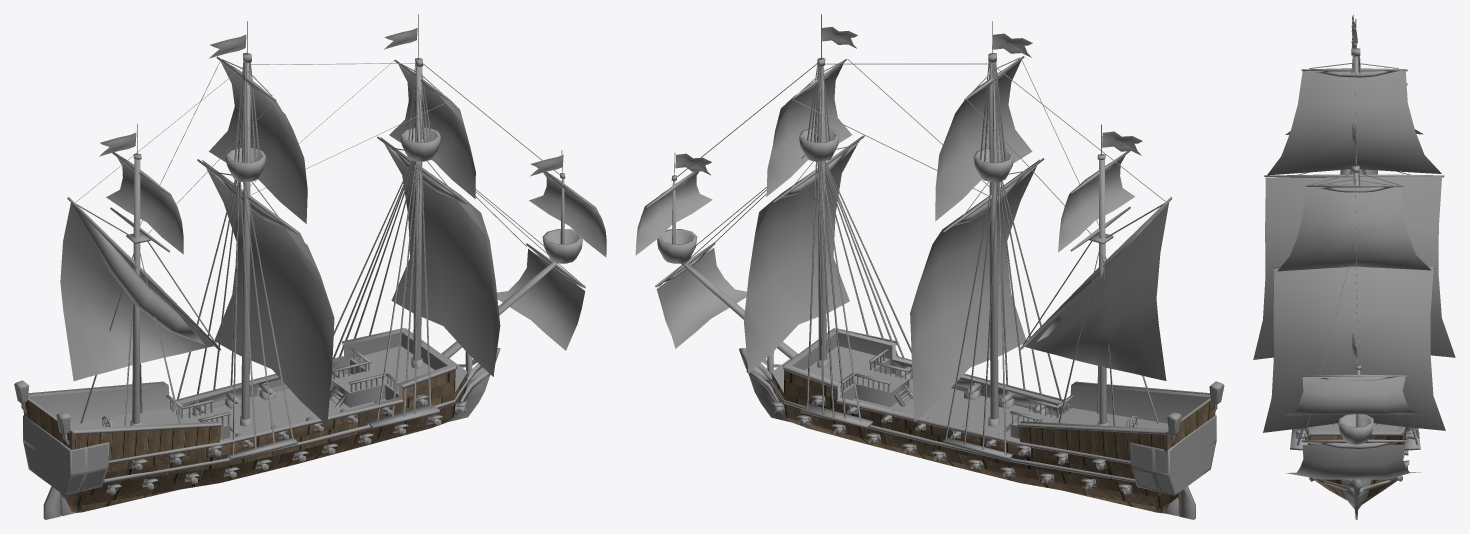
The model's file is War_ship.FBX.
3 renders of one model, left to right at view 1: azimuth 30°, elevation 25°; view 2: azimuth 150°, elevation 25°; view 3: azimuth 270°, elevation 25°, orthographic. The views are drawn at different scales.
Parts seen in each view (by area): view 1: sail6, rope, sail4, wood5, sail08, wood6, wood11, wood9, wood5_2, sail5, wood7, sail2 (+12 smaller); view 2: sail6, rope, sail4, sail08, wood5, wood6, wood9, wood11, wood5_2, wood7, sail5, sail2 (+11 smaller); view 3: sail4, sail5, sail6, sail3, sail1, sail2, wood5, rope, wood8, wood6, wood3, closedsail5 (+6 smaller).
Part boxes in pixels (x1=…): sail6: x1=202, y1=160, x2=334, y2=425; rope: x1=75, y1=59, x2=584, y2=454; sail4: x1=380, y1=137, x2=500, y2=376; wood5: x1=67, y1=14, x2=594, y2=426; sail08: x1=60, y1=203, x2=213, y2=381; wood6: x1=23, y1=370, x2=467, y2=512; wood11: x1=28, y1=331, x2=447, y2=446; wood9: x1=14, y1=328, x2=496, y2=495; wood5_2: x1=70, y1=346, x2=467, y2=438; sail5: x1=209, y1=62, x2=307, y2=223; wood7: x1=75, y1=380, x2=466, y2=496; sail2: x1=497, y1=249, x2=585, y2=350; sail6: x1=910, y1=159, x2=1039, y2=421; rope: x1=658, y1=57, x2=1165, y2=455; sail4: x1=743, y1=136, x2=861, y2=373; sail08: x1=1025, y1=203, x2=1168, y2=380; wood5: x1=646, y1=14, x2=1172, y2=426; wood6: x1=771, y1=370, x2=1215, y2=513; wood9: x1=742, y1=328, x2=1224, y2=495; wood11: x1=792, y1=331, x2=1210, y2=446; wood5_2: x1=771, y1=346, x2=1168, y2=439; wood7: x1=772, y1=380, x2=1164, y2=496; sail5: x1=935, y1=60, x2=1032, y2=221; sail2: x1=656, y1=248, x2=746, y2=348; sail4: x1=1263, y1=267, x2=1445, y2=432; sail5: x1=1267, y1=70, x2=1441, y2=175; sail6: x1=1253, y1=176, x2=1455, y2=359; sail3: x1=1277, y1=188, x2=1431, y2=271; sail1: x1=1285, y1=376, x2=1423, y2=415; sail2: x1=1286, y1=444, x2=1421, y2=479; wood5: x1=1264, y1=19, x2=1444, y2=442; rope: x1=1295, y1=56, x2=1419, y2=445; wood8: x1=1338, y1=414, x2=1373, y2=444; wood6: x1=1305, y1=427, x2=1407, y2=504; wood3: x1=1341, y1=479, x2=1371, y2=519; closedsail5: x1=1305, y1=70, x2=1401, y2=77.
Size of the model in its own units: 800 by 631 by 286.
